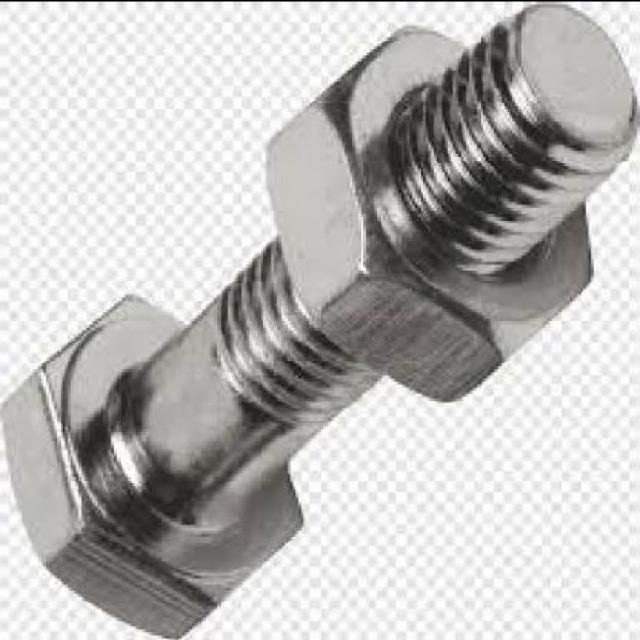metal: (0, 1, 637, 638), (263, 24, 592, 404)
